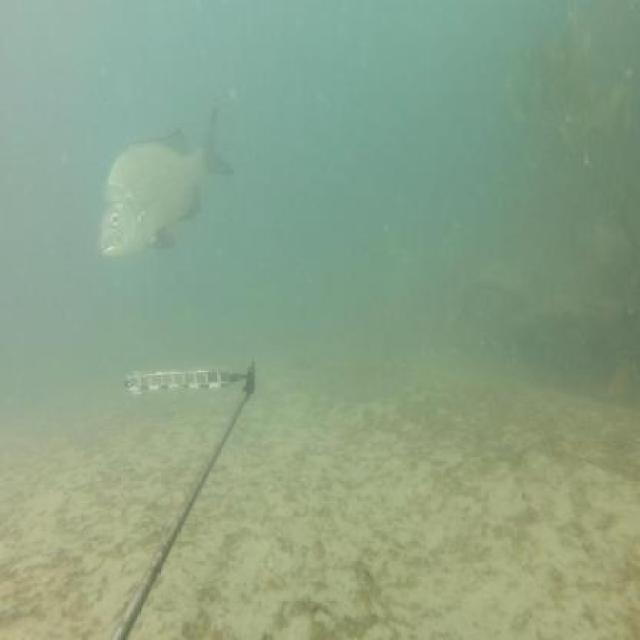acanthopagrus_palmaris: (96, 102, 236, 266)
